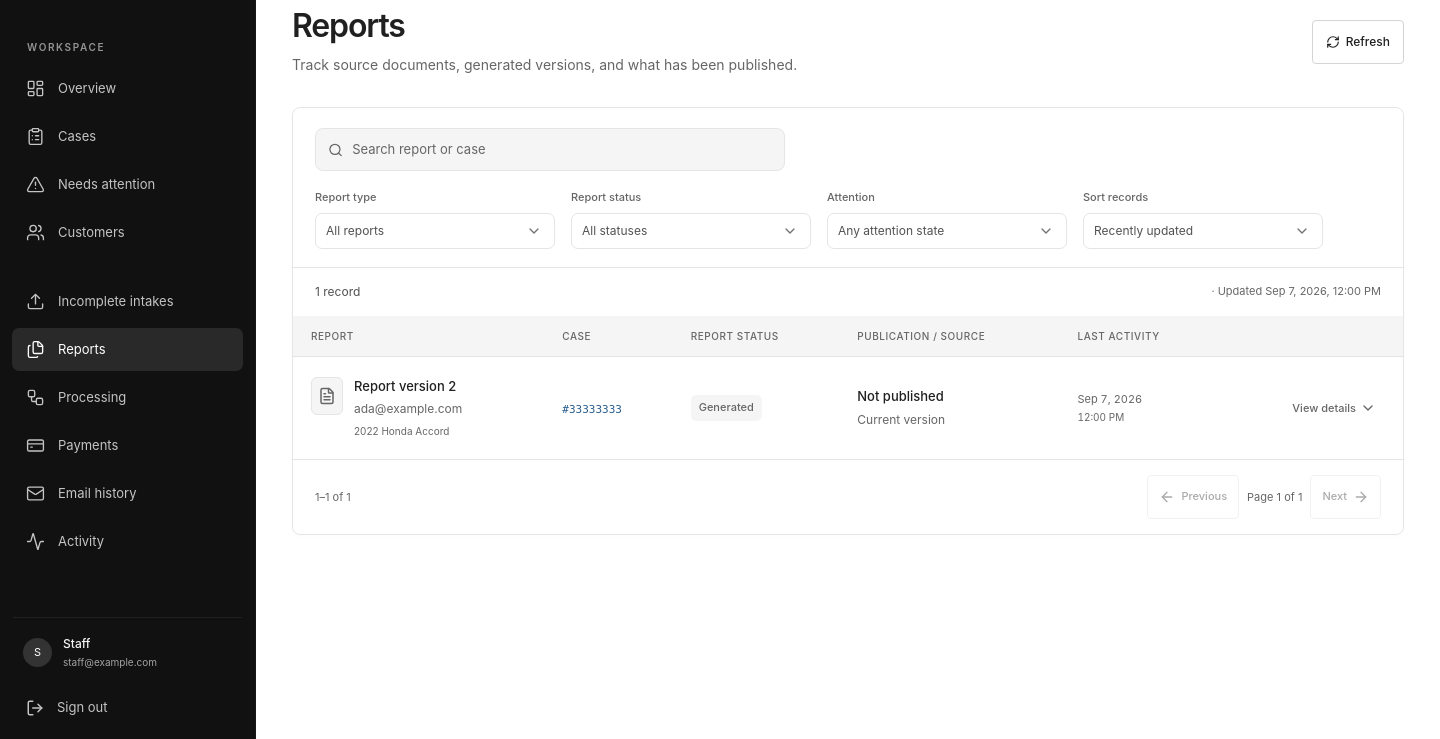
Test: admin operations workspace › keeps report publication, supersession, and source metadata explicit without download actions
Click the button "View details" at (1334, 408), box [1283,393,1385,423]
(page scrolled)
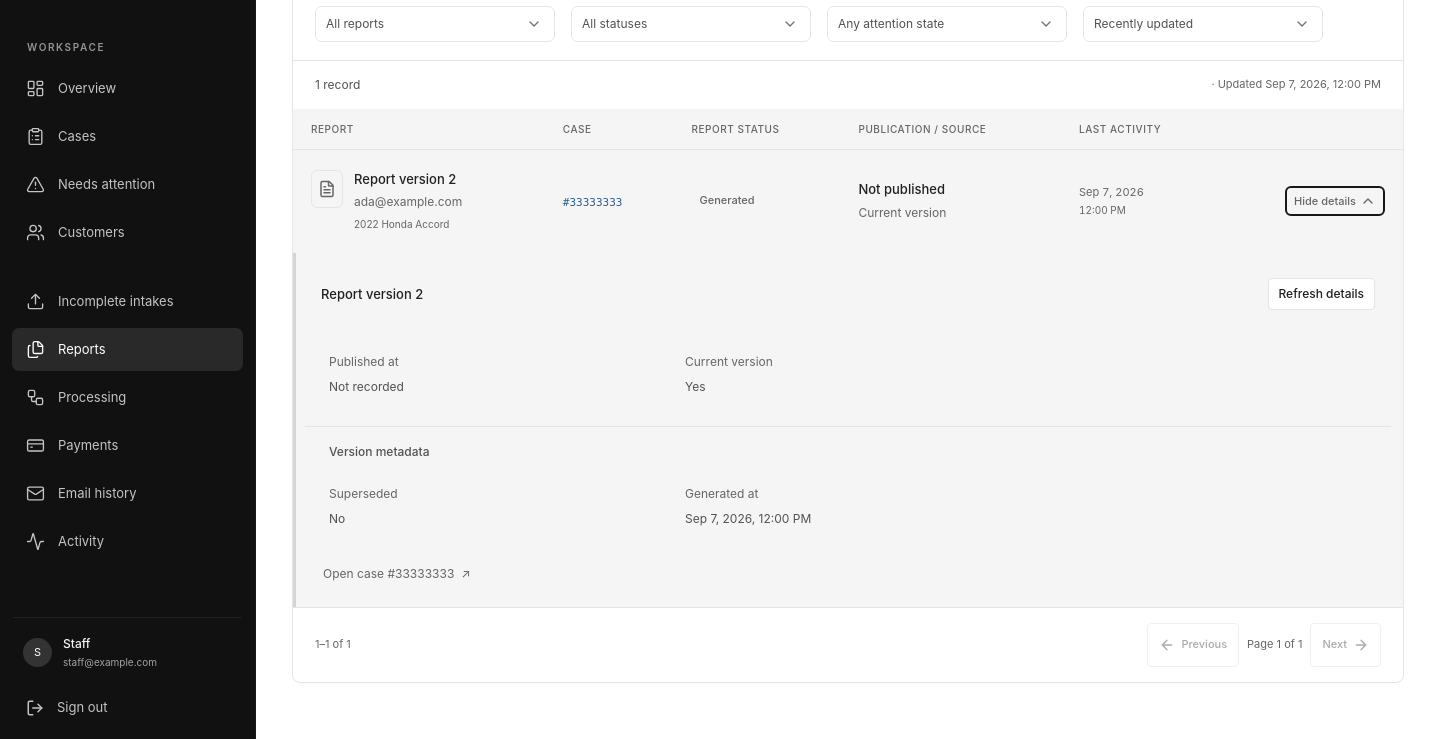
Check: the text "Generated at" is shown, box [685,486,758,502]
